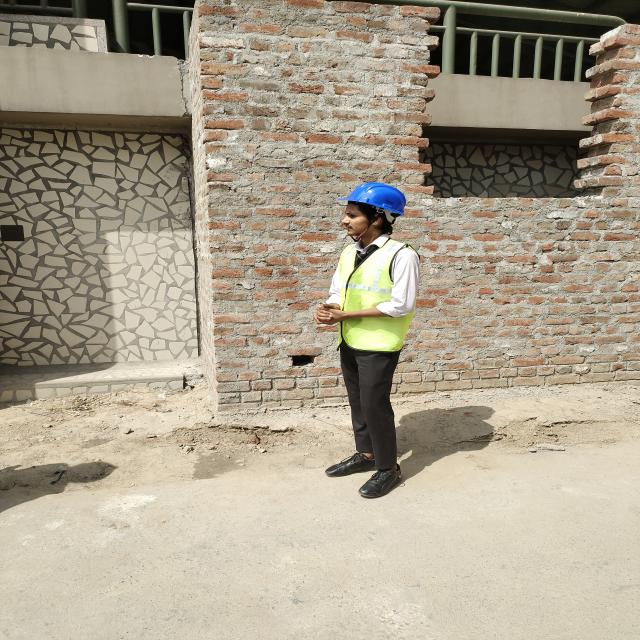safe: (326, 182, 420, 497)
